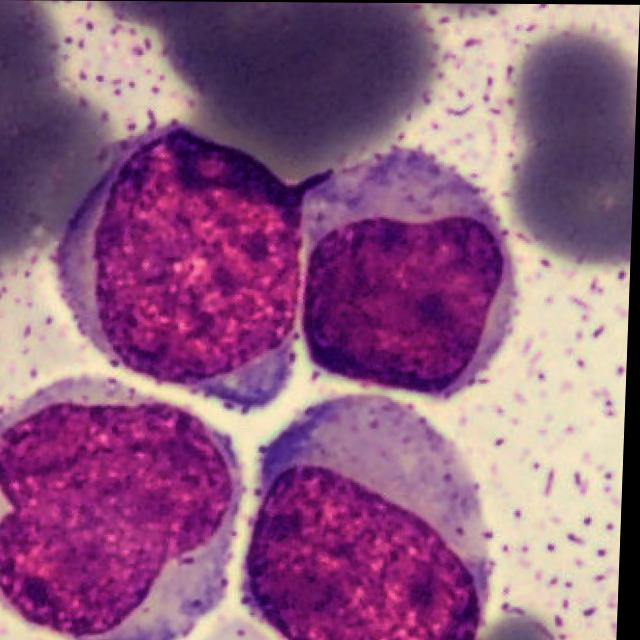Mieloblasto: (57, 126, 332, 412), (0, 382, 244, 640), (251, 395, 493, 640), (299, 143, 518, 400)
